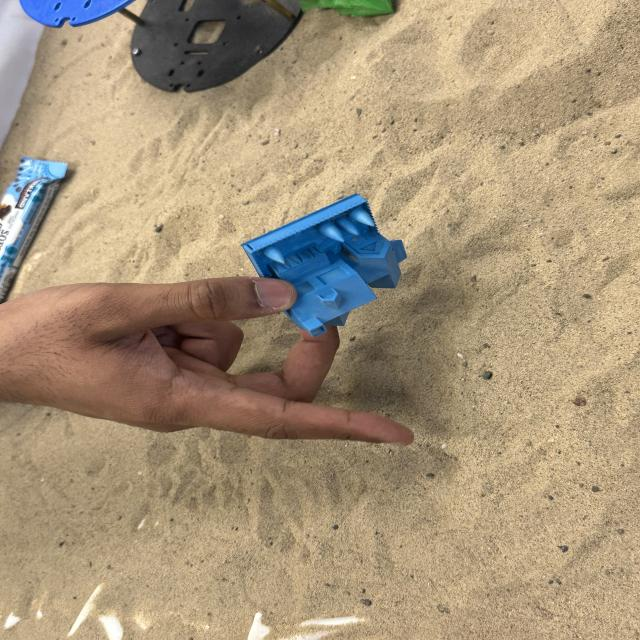house: (239, 192, 408, 338)
